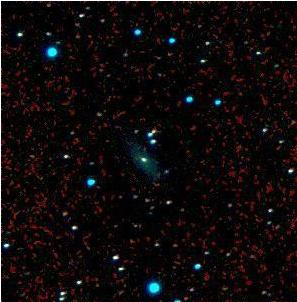star: (126, 115, 156, 145)
